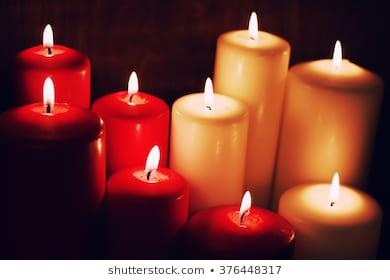fire: (40, 74, 57, 109), (125, 66, 141, 99), (326, 170, 342, 202), (143, 143, 160, 173), (40, 21, 56, 50), (330, 37, 344, 69), (246, 8, 260, 40), (201, 74, 214, 105)
